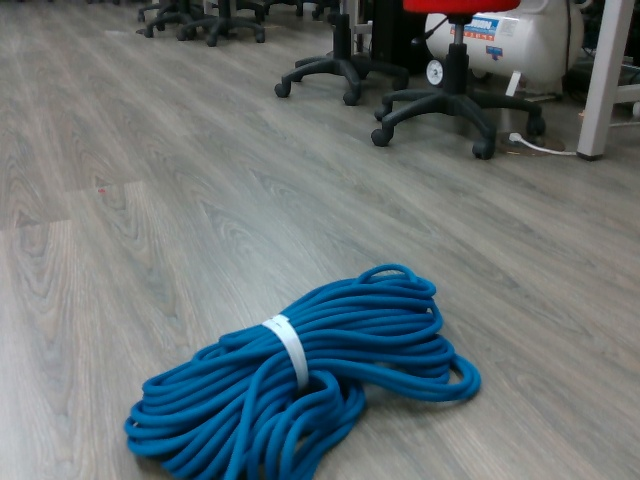rope: (121, 259, 483, 480)
